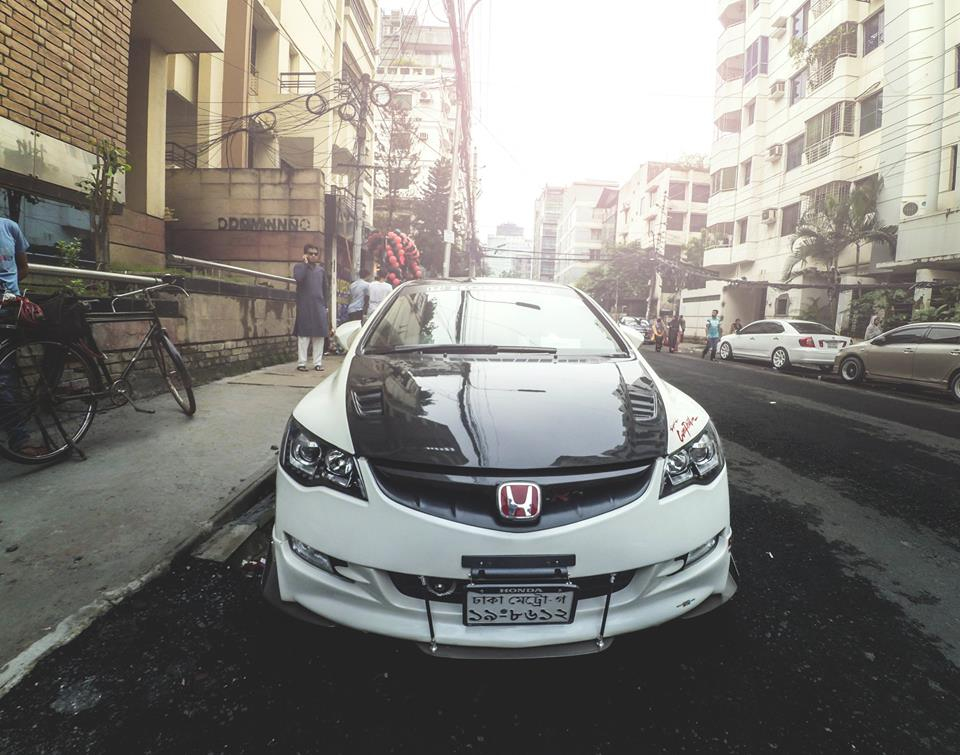registration_plate: (466, 591, 574, 625)
